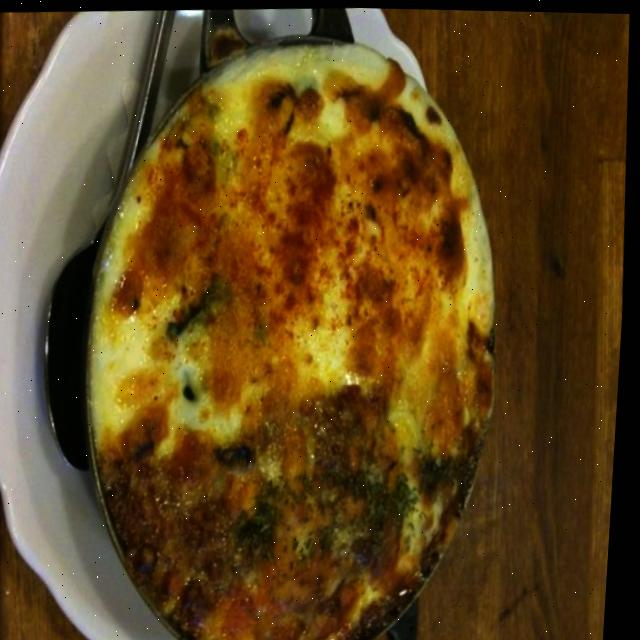米饭主食: (70, 20, 536, 640)
